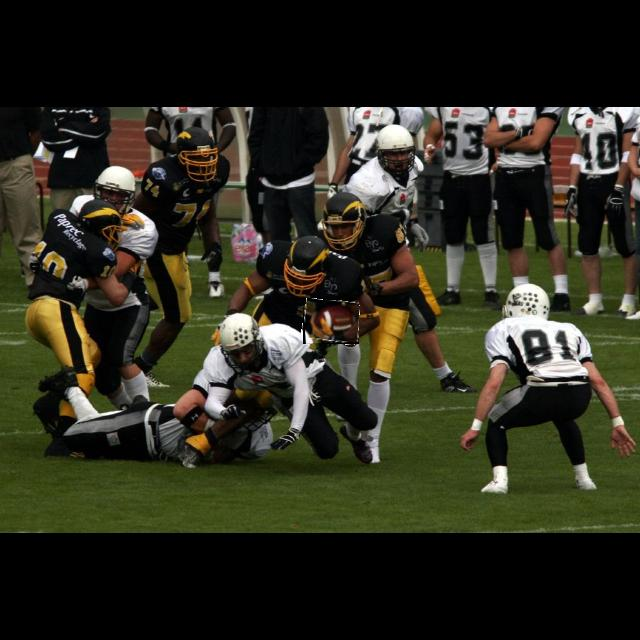Football: (303, 300, 359, 344)
